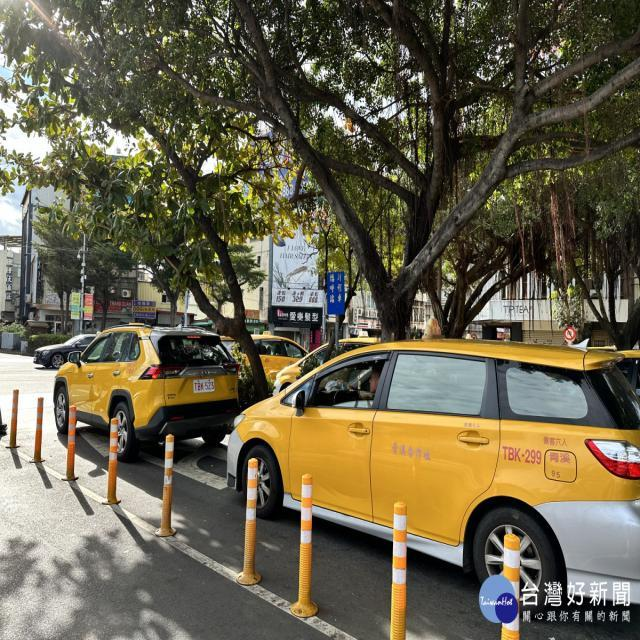Door: (226, 340, 640, 622)
Taxi: (52, 323, 239, 460)
